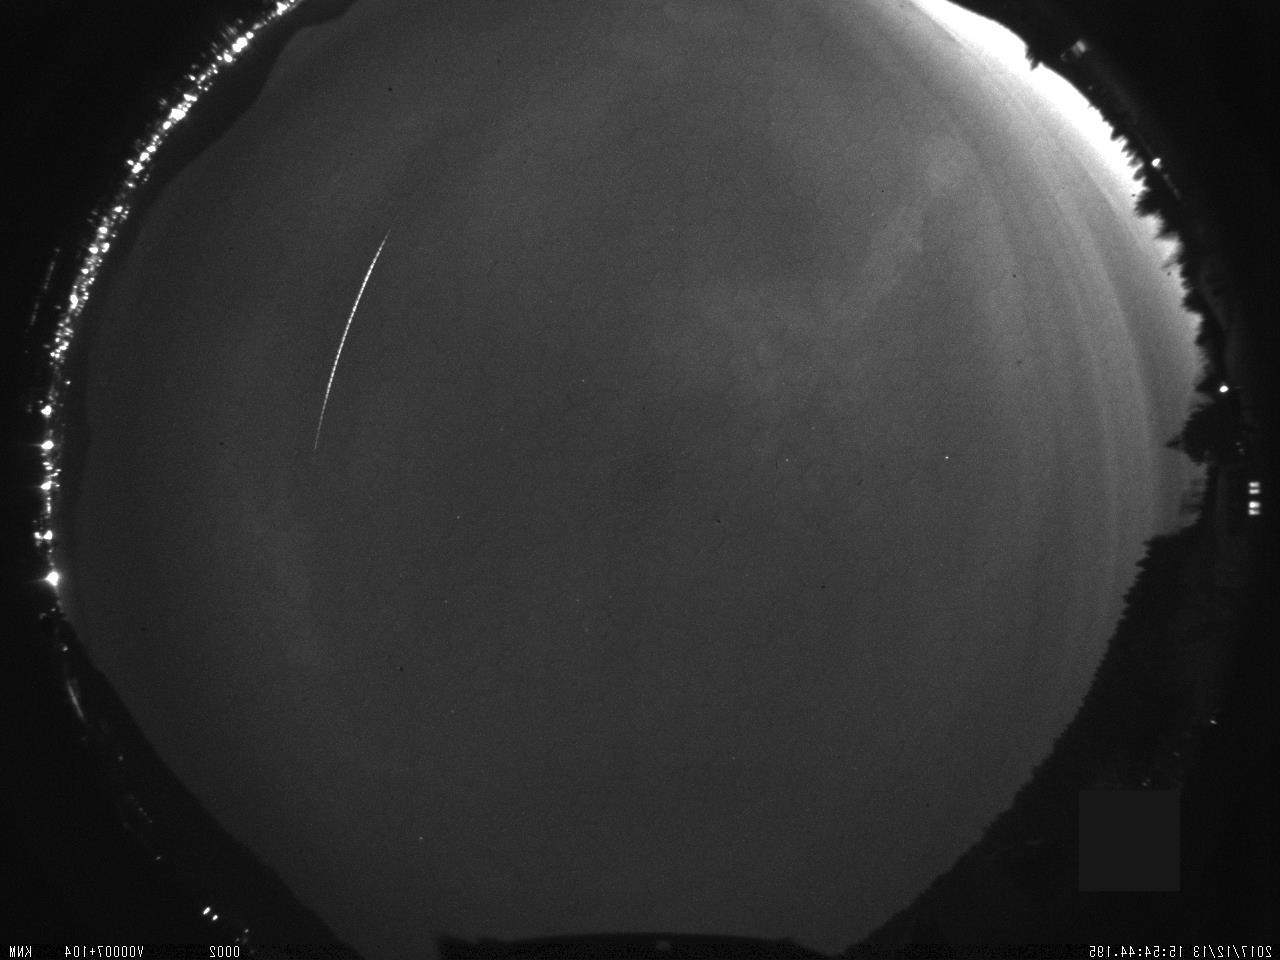meteor: (253, 202, 441, 520)
